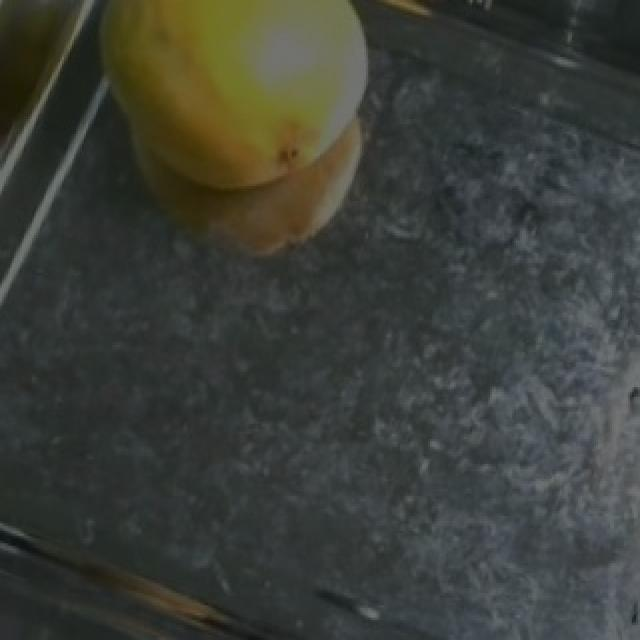fruit: (58, 0, 428, 241)
